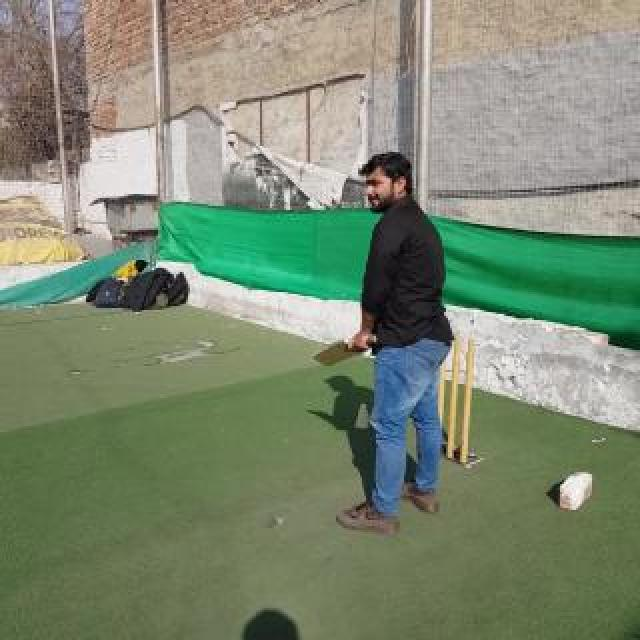bat: (313, 334, 377, 368)
